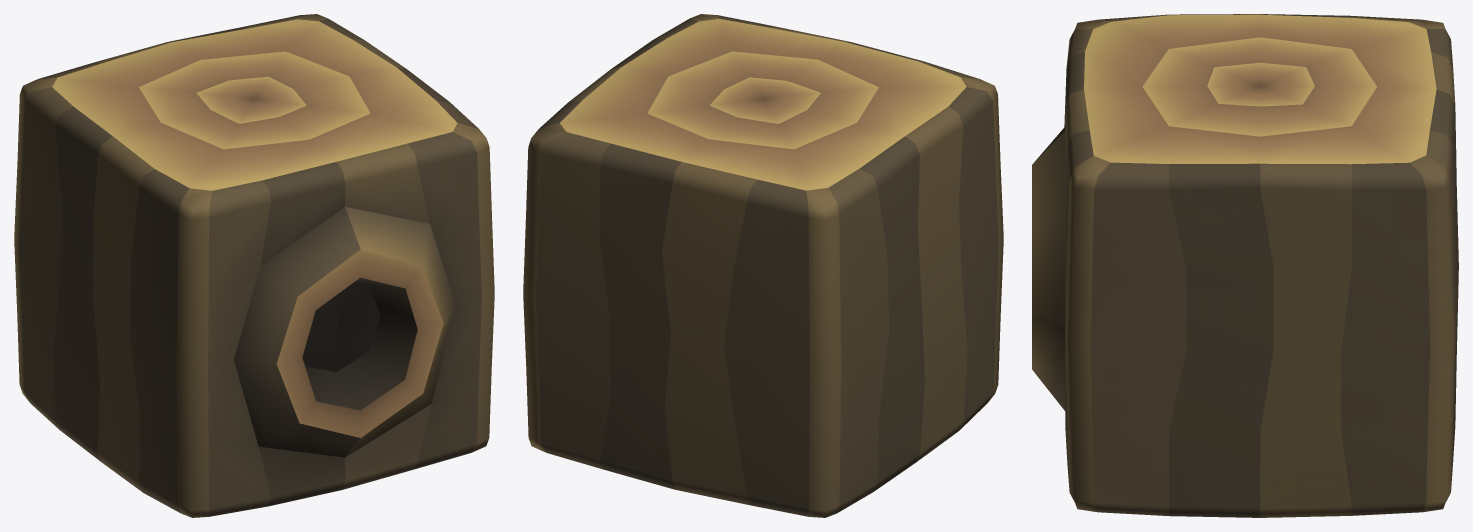
The model's file is wooden_cubes3.fbx.
3 views of the same model, side by side, from view 1: azimuth 30°, elevation 25°; view 2: azimuth 150°, elevation 25°; view 3: azimuth 270°, elevation 25° (orthographic). The views are drawn at different scales.
Visible parts, largest first — view 1: wooden_cubes3; view 2: wooden_cubes3; view 3: wooden_cubes3.
Boxes of the visible parts, <box> form: wooden_cubes3: <box>14,14,494,517</box>; wooden_cubes3: <box>523,14,1003,517</box>; wooden_cubes3: <box>1032,14,1458,517</box>.
Size of the model in its own units: 10945 by 10868 by 11666.
Materials: 1 (1 with a texture image).
